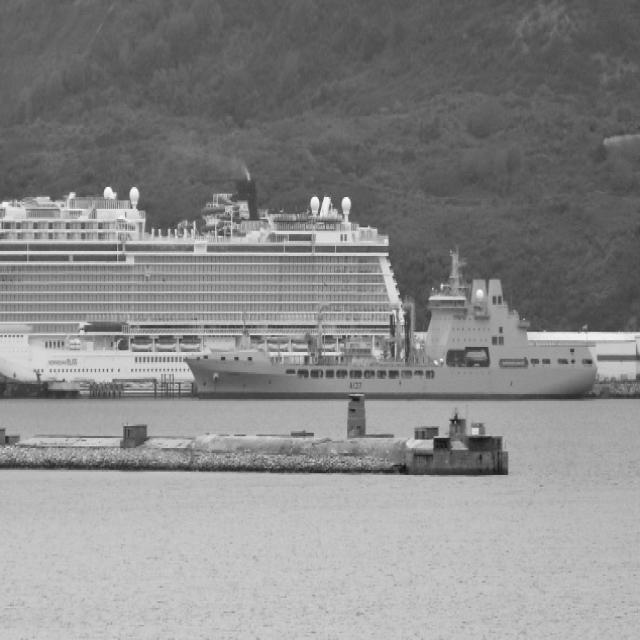cruises: (1, 104, 429, 392)
